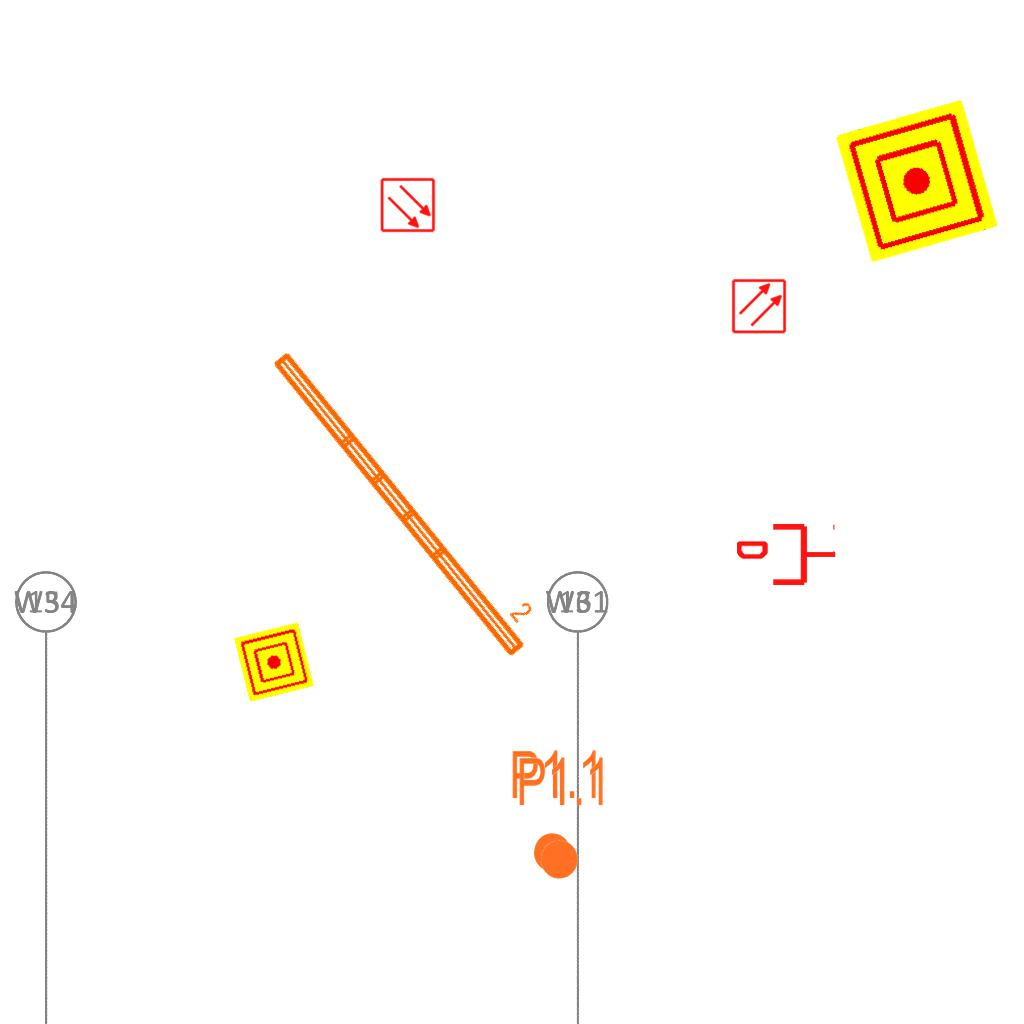Ambulanz_Pendelleuchte_LED: (264, 328, 553, 664)
Datenanschluss_einfach: (737, 520, 837, 589)
Downlight_LED_Einbauleuchten_Flur: (509, 747, 602, 875), (516, 754, 609, 882)
NAM-Nichtautomatischer_Melder: (835, 99, 999, 263), (233, 621, 315, 703)
RMO_Rauchmelder_optischer: (731, 278, 787, 334), (380, 177, 436, 233)
